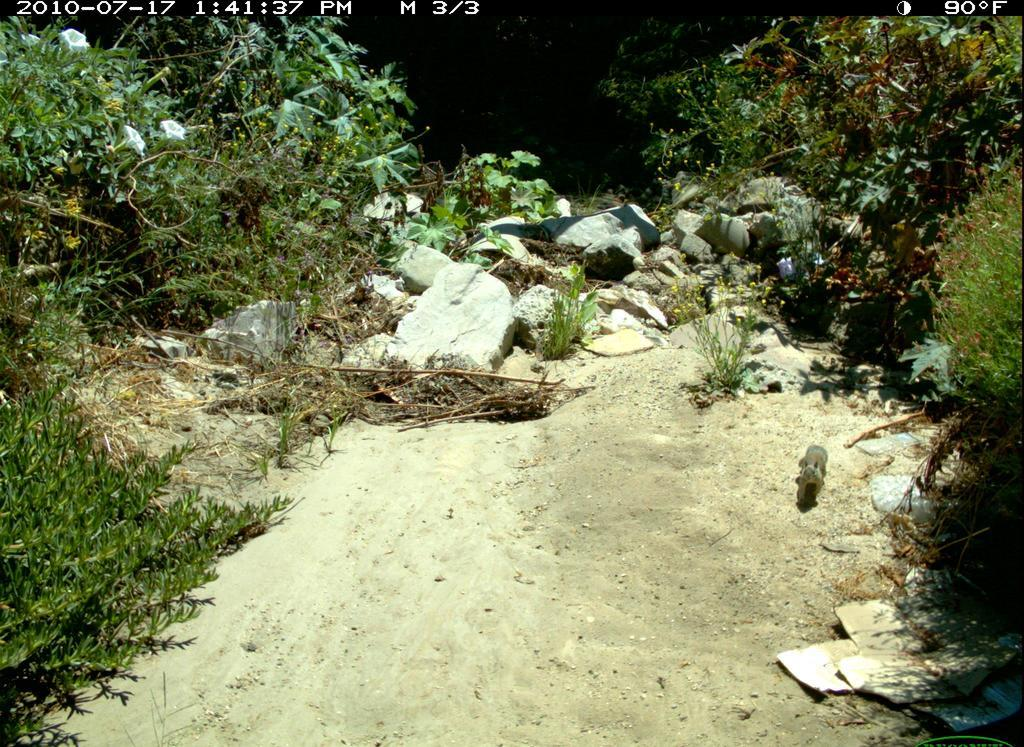squirrel: (796, 442, 831, 507)
